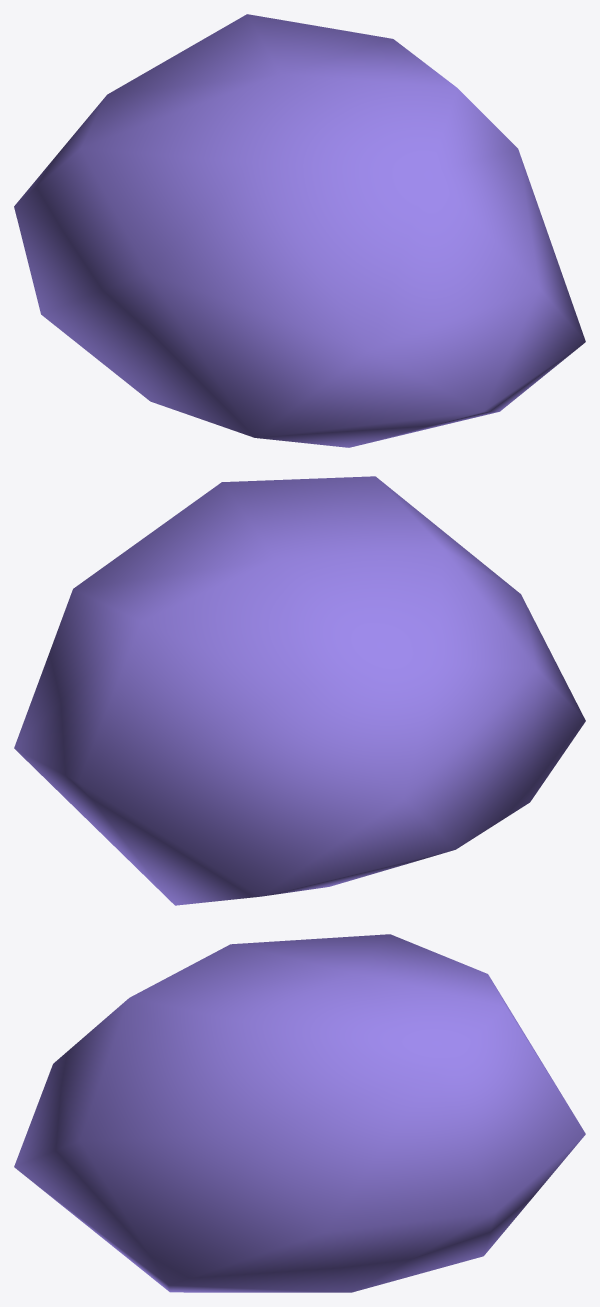
File: charcoal.glb
3 views of the same model, one above another, from view 1: azimuth 30°, elevation 25°; view 2: azimuth 150°, elevation 25°; view 3: azimuth 270°, elevation 25° (orthographic). The views are drawn at different scales.
Visible parts, largest first — view 1: Icosphere; view 2: Icosphere; view 3: Icosphere.
Part boxes in pixels (<box>): Icosphere: <box>14,14,585,447</box>; Icosphere: <box>14,476,585,905</box>; Icosphere: <box>14,934,585,1292</box>.
Size of the model in its own units: 0.3834 by 0.264 by 0.492.
